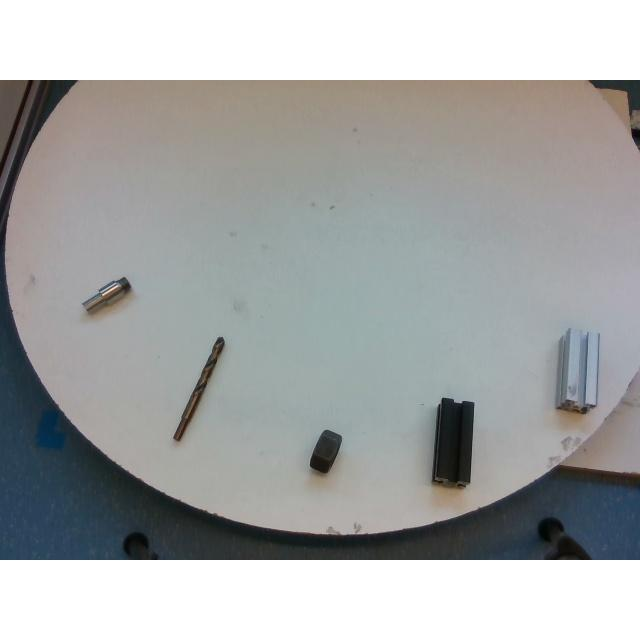Axis2: (82, 276, 130, 312)
Drill: (173, 336, 223, 438)
M30: (310, 430, 342, 474)
S40_40_B: (432, 398, 472, 487)
S40_40_G: (556, 328, 598, 412)
